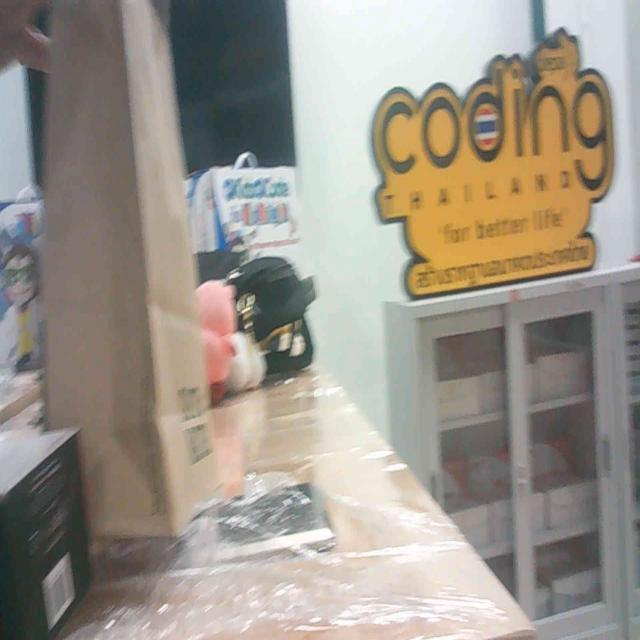bag: (32, 5, 208, 538)
